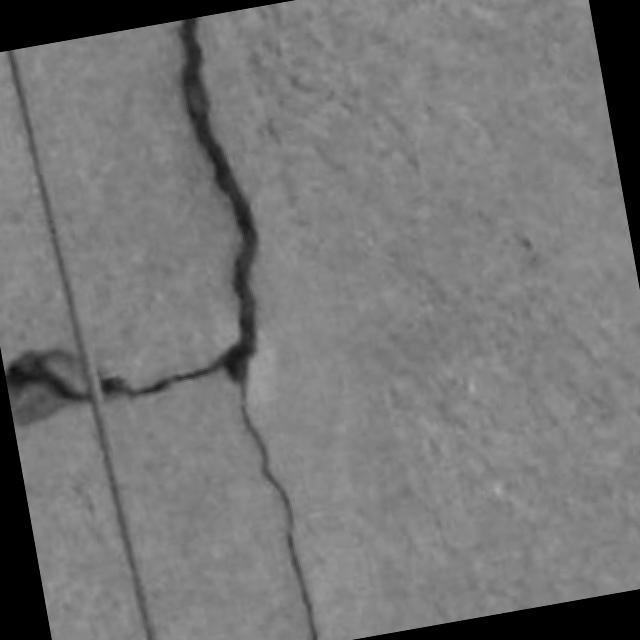crack: (95, 17, 319, 639), (179, 17, 319, 639), (99, 350, 230, 399)
